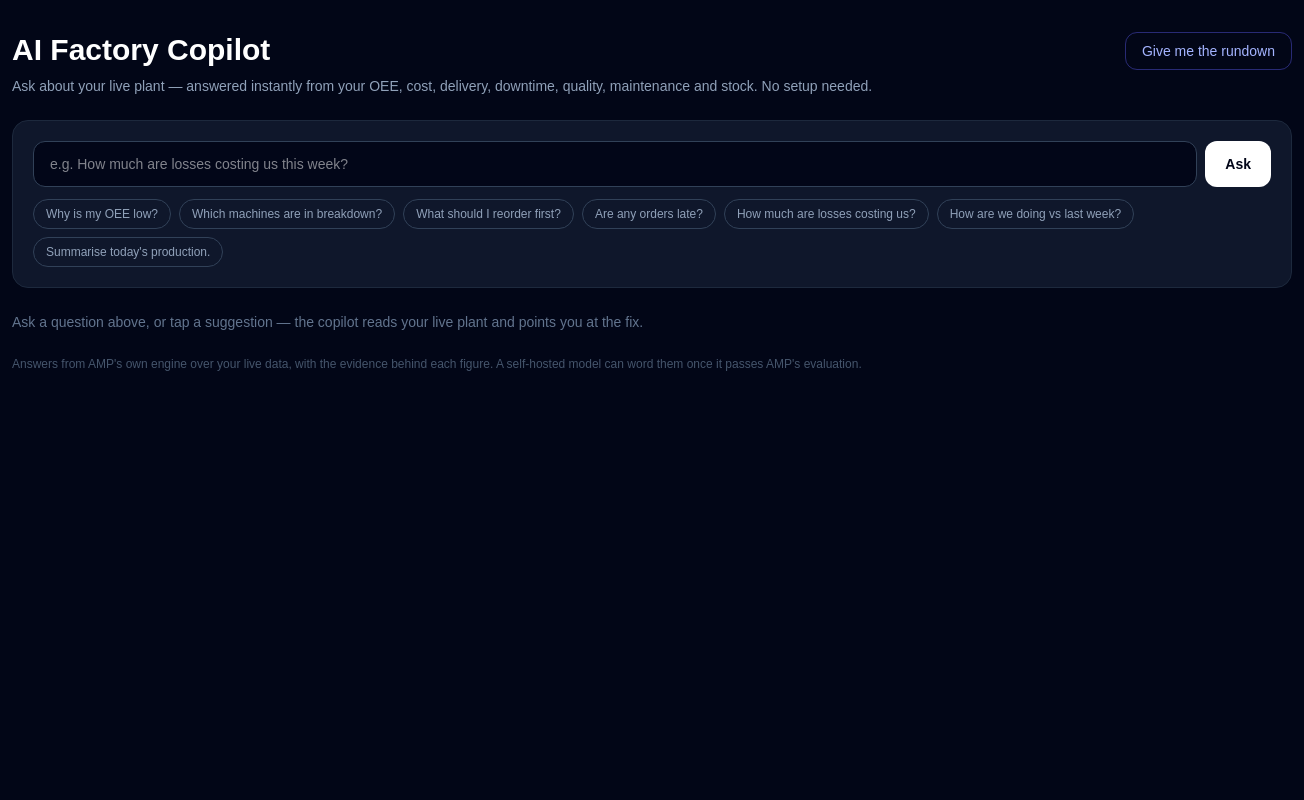
it: AICopilot follow-ups (ADR-0035) › says which machine a pronoun was taken to mean
This screenshot has width=1304, height=800.
In the field: (615, 164) top-left (33, 141), bottom-right (1197, 187), type "How is CNC-01 doing?"
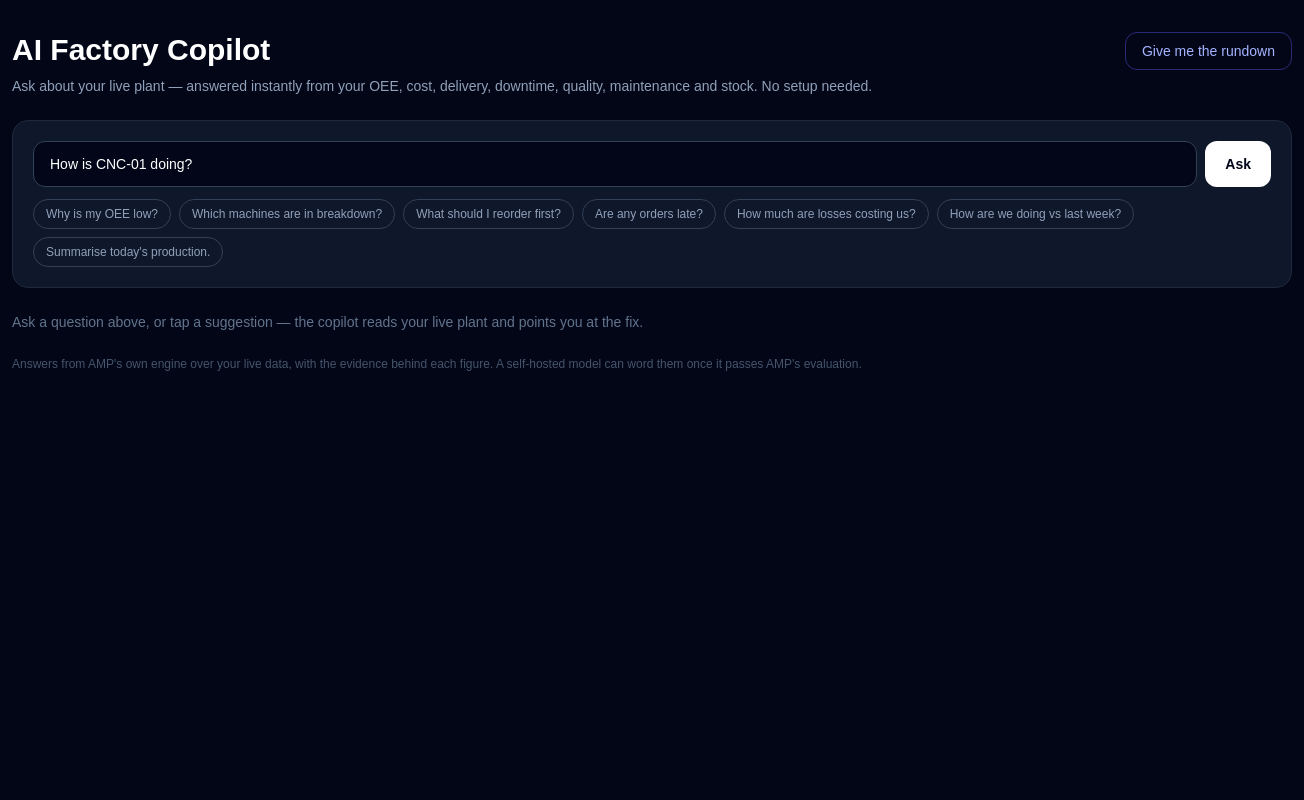
Press Enter in the field, box top-left (33, 141), bottom-right (1197, 187)
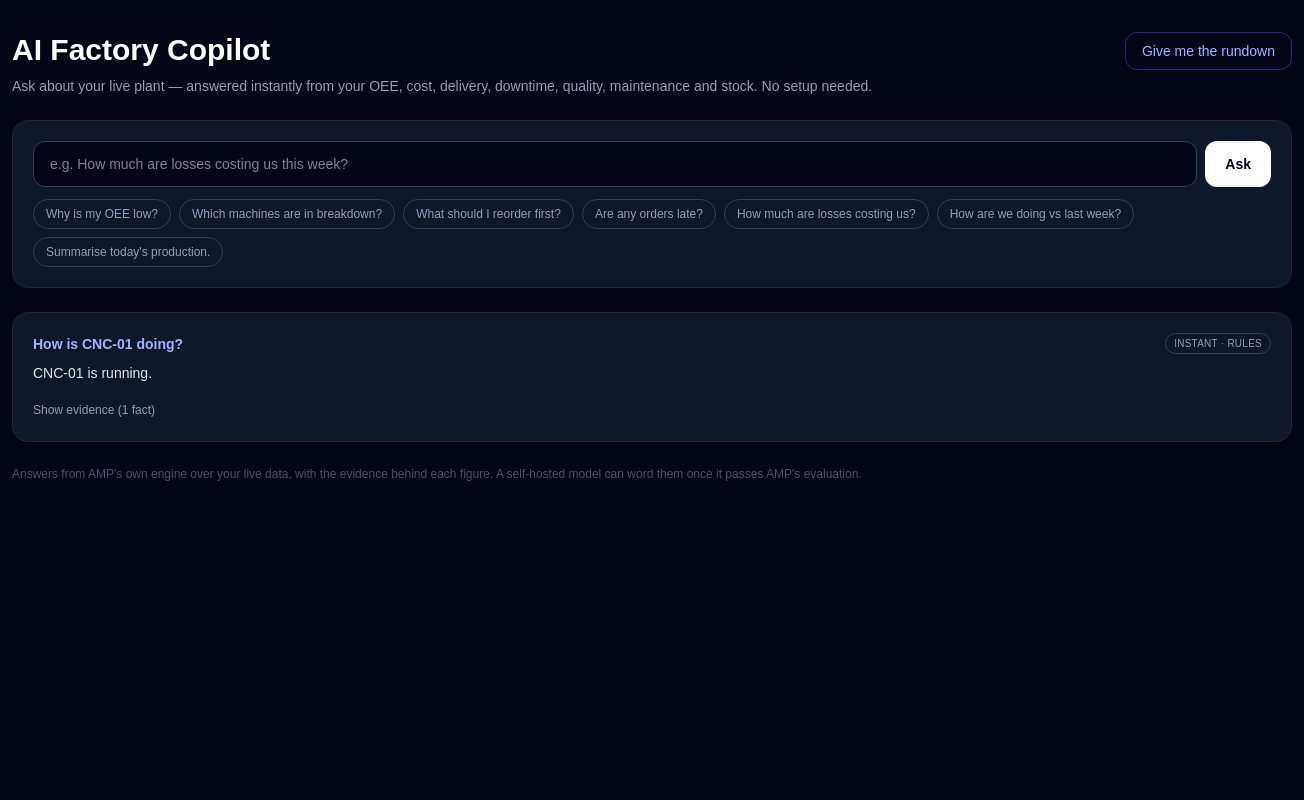
Expected: the text "About CNC-01" is not shown
Expected: the text "CNC-01 is running." is shown, top-left (33, 365), bottom-right (152, 381)
In the field: (615, 164) top-left (33, 141), bottom-right (1197, 187), type "and its downtime?"
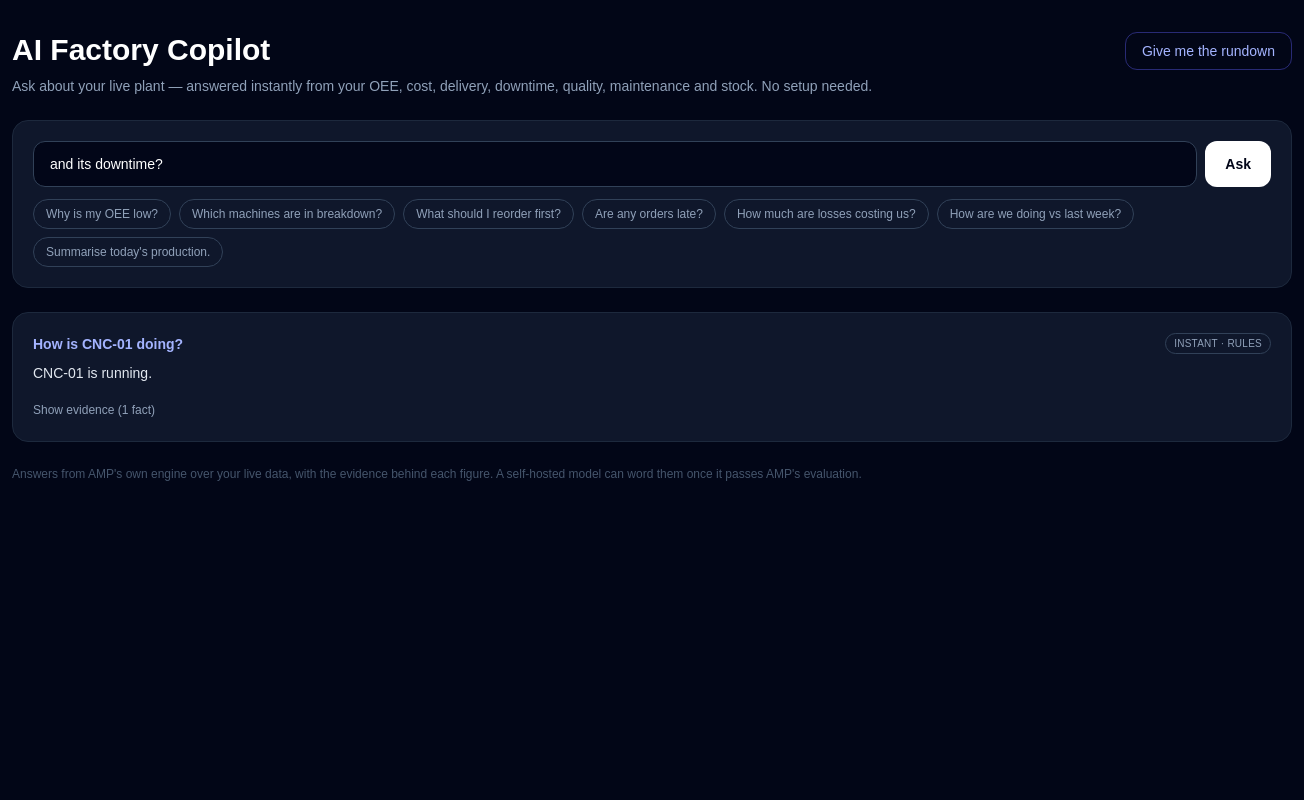
Press Enter in the field, box top-left (33, 141), bottom-right (1197, 187)
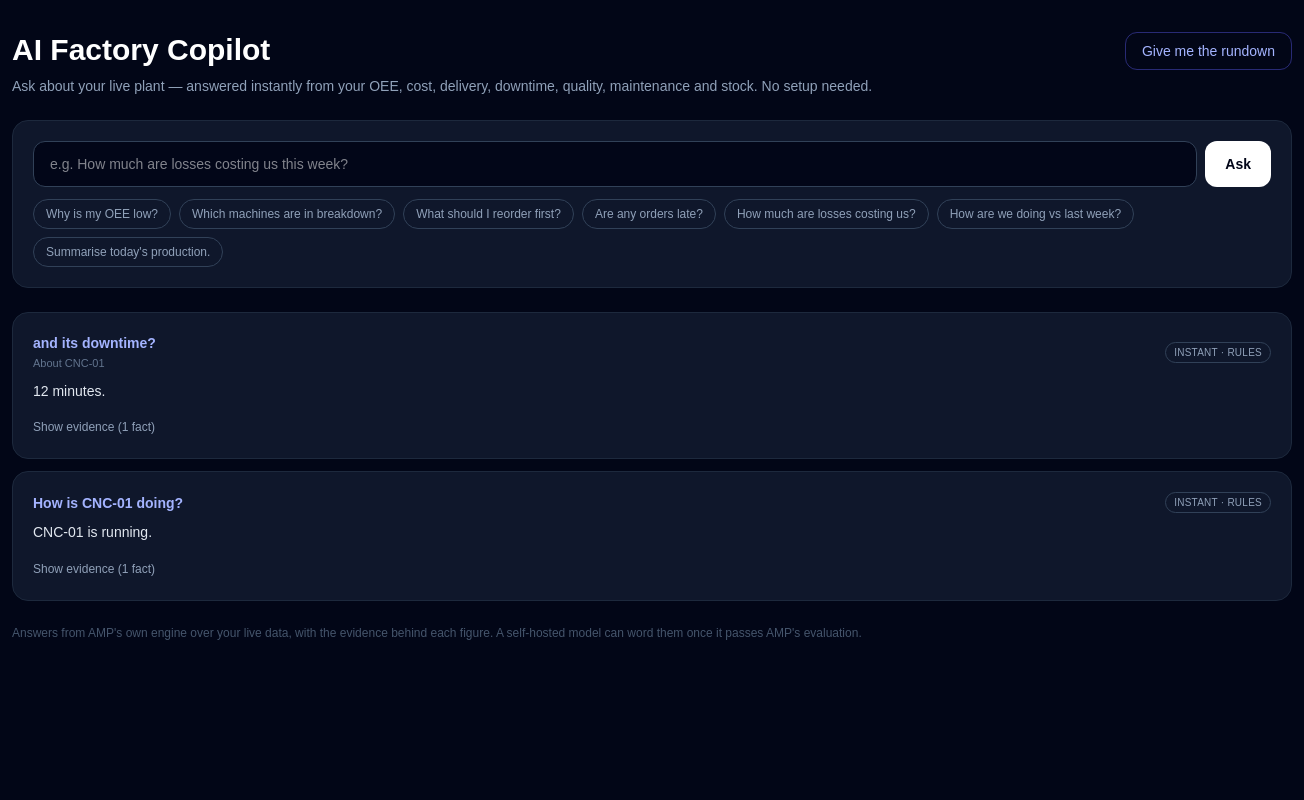
Expected: the text "12 minutes." is shown, top-left (33, 382), bottom-right (105, 398)
Expected: the text "About CNC-01" is shown, top-left (33, 357), bottom-right (104, 369)
